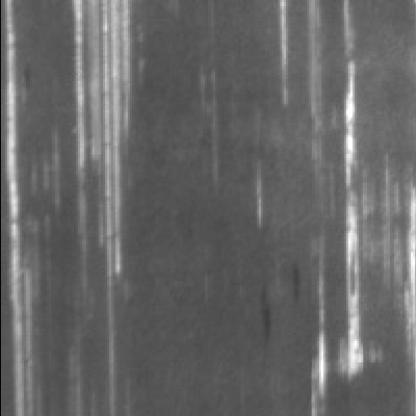scratches: (289, 4, 381, 416), (73, 4, 139, 326), (6, 4, 40, 416)
